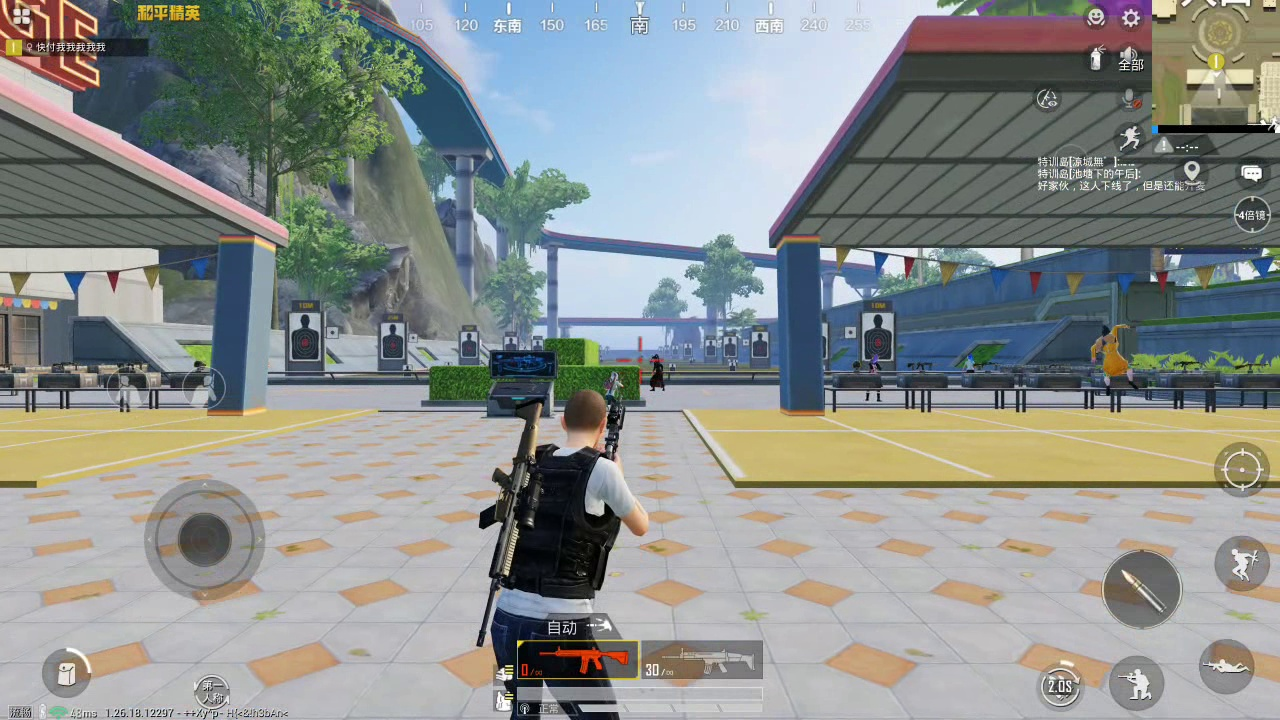enemy: (1084, 323, 1138, 392), (864, 353, 887, 404), (647, 353, 668, 392), (962, 351, 979, 374)
